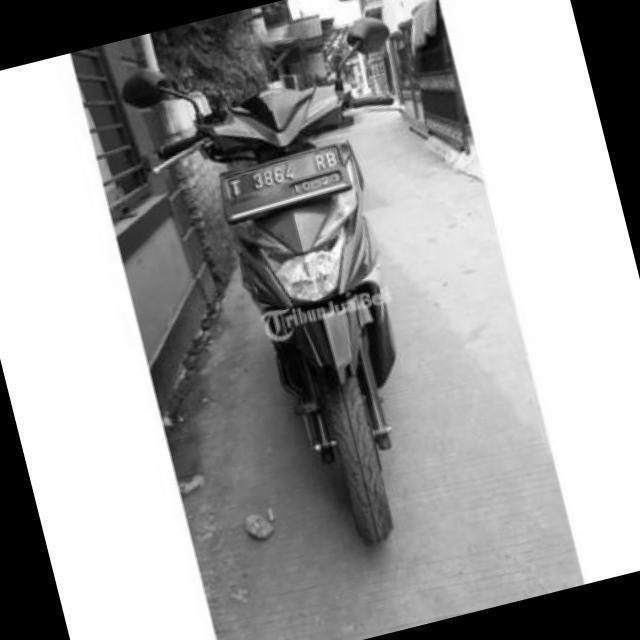3: (248, 169, 266, 192)
4: (282, 159, 300, 186)
6: (272, 164, 286, 184)
8: (262, 167, 276, 187)
B: (324, 148, 342, 169)
Plate: (221, 142, 351, 220)
R: (313, 152, 327, 172)
T: (221, 172, 247, 202)
